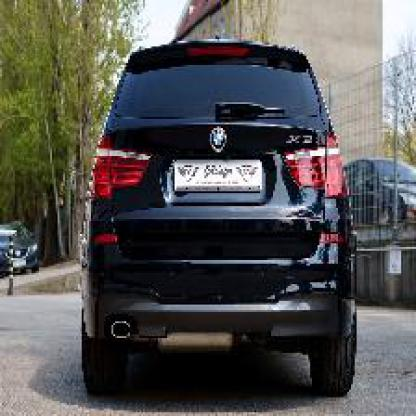not_emergency: (72, 32, 377, 396)
